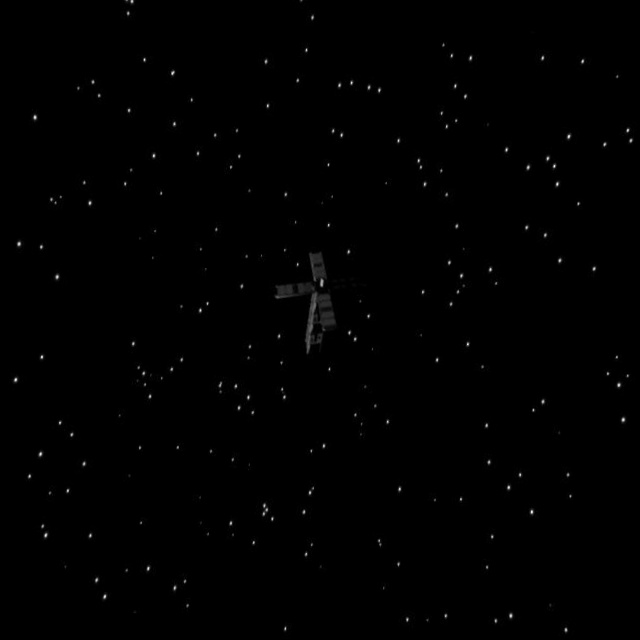medium_debris: (259, 244, 357, 359)
